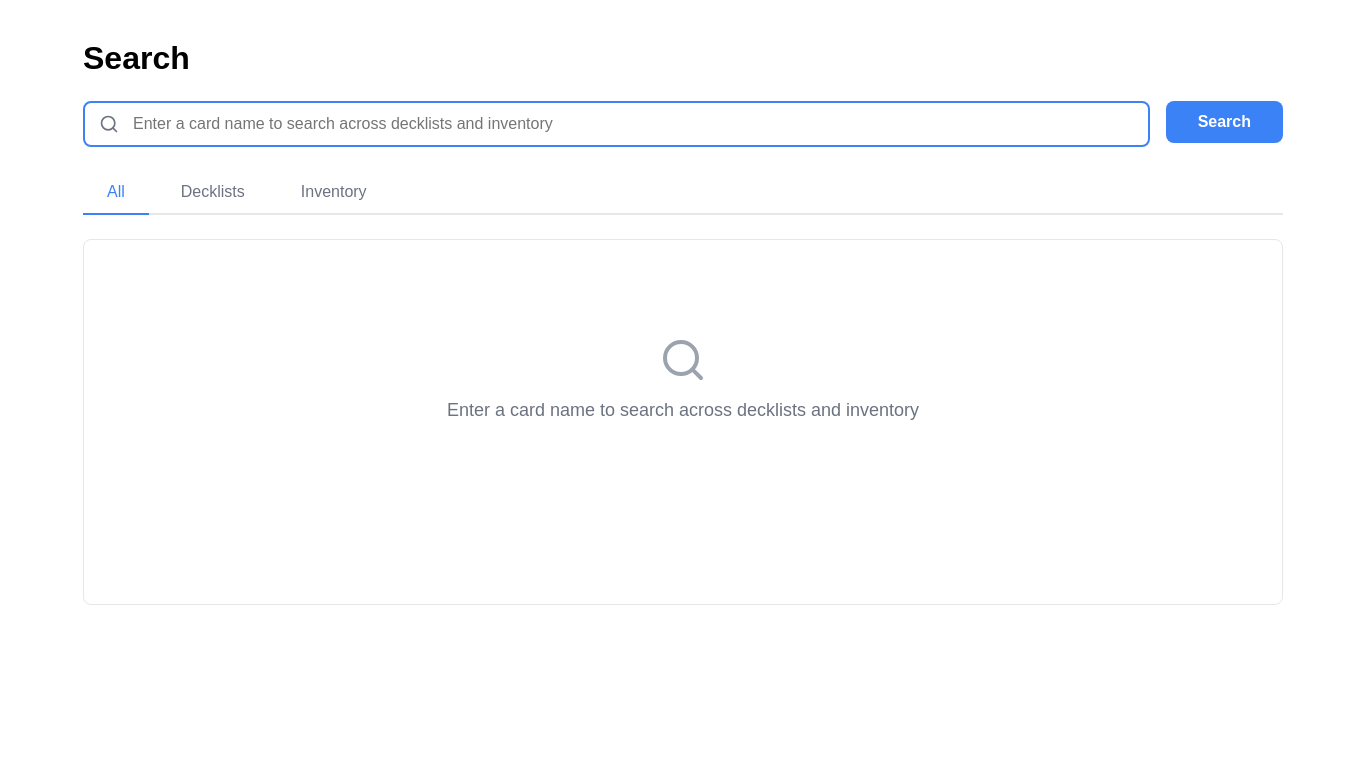
Test case: Search Page - Tab Filtering for Decklists › should hide decklist results when Inventory tab is active
The width and height of the screenshot is (1366, 768).
Type "Sol Ring" into the field with placeholder "Enter a card name to search across decklists and inventory" at (616, 124), box [83,101,1150,147]
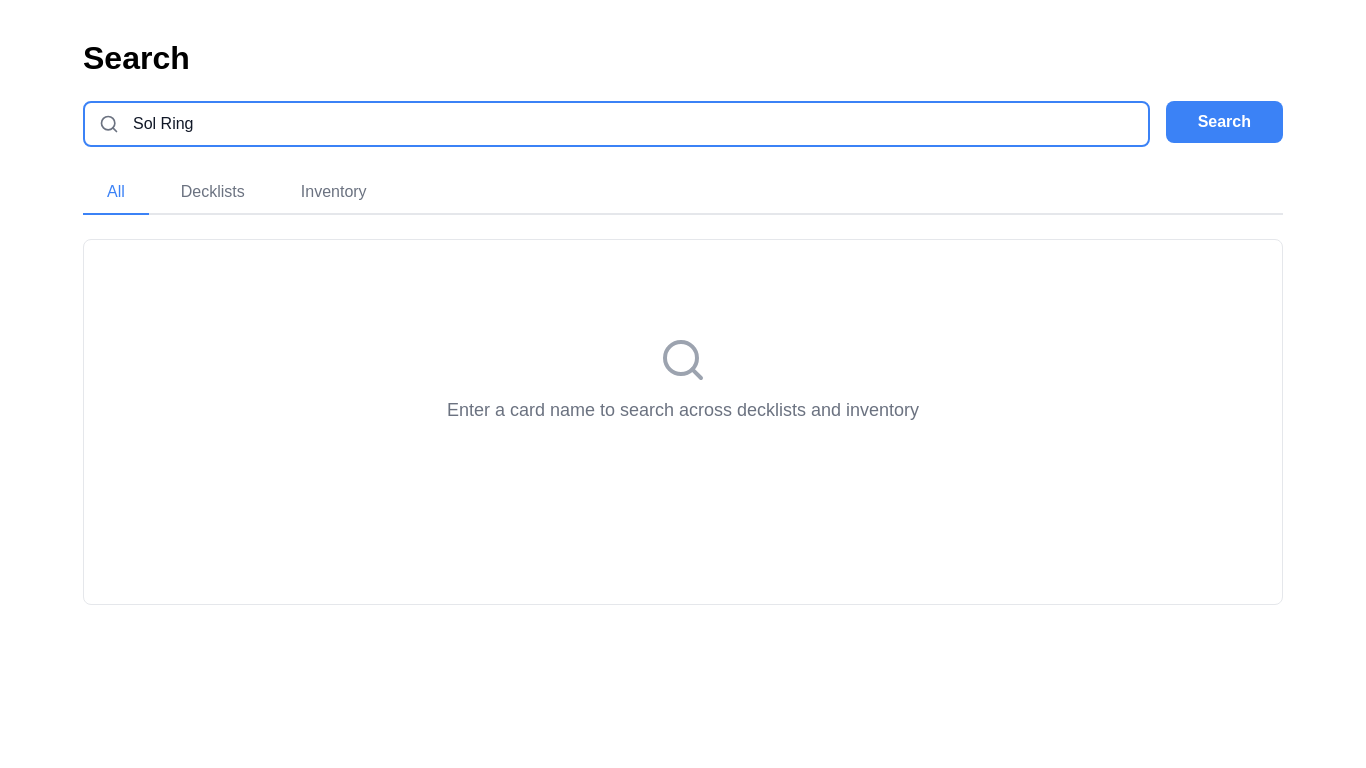
Click the button "Search" at (1224, 122), box [1166,101,1283,143]
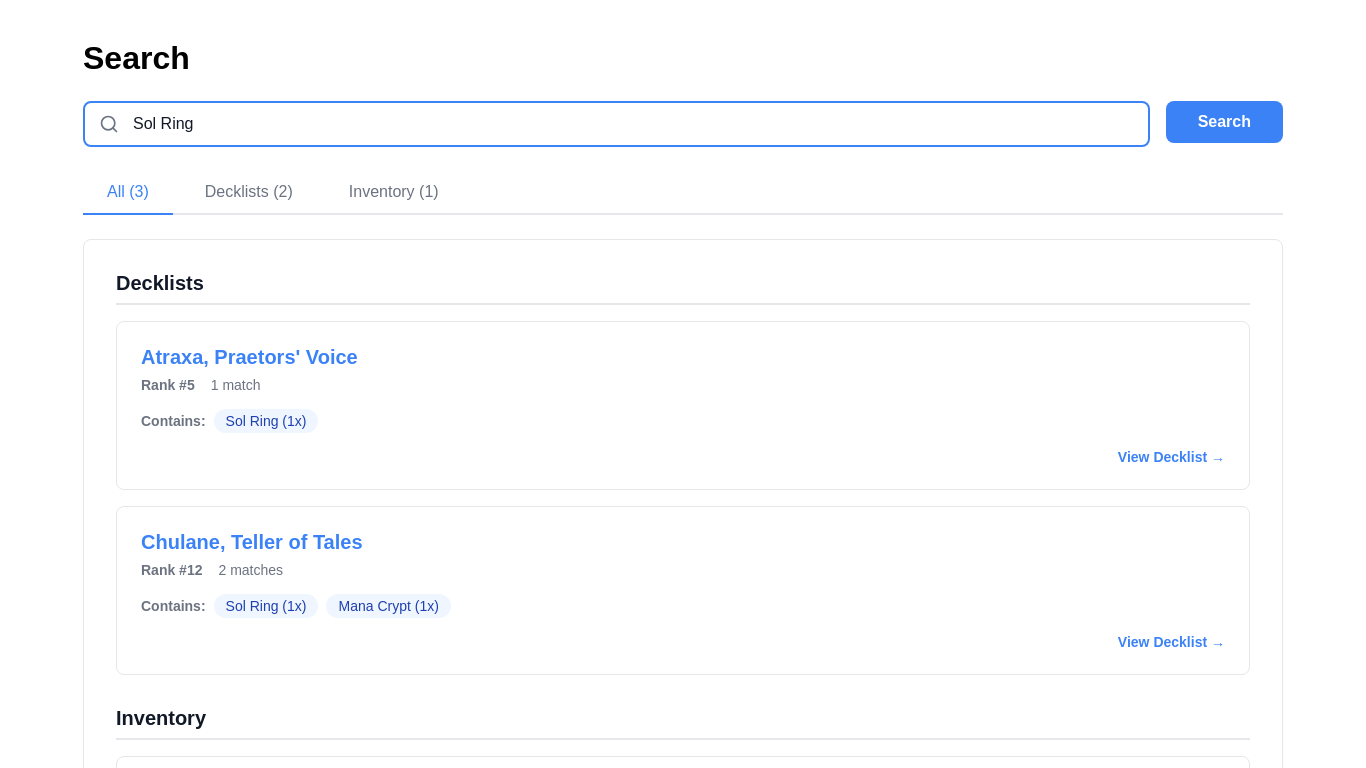
Expected: the link "Atraxa, Praetors' Voice" is shown, [141,346,358,368]
Click the tab "Inventory (1)" at (394, 193), box [325,171,463,215]
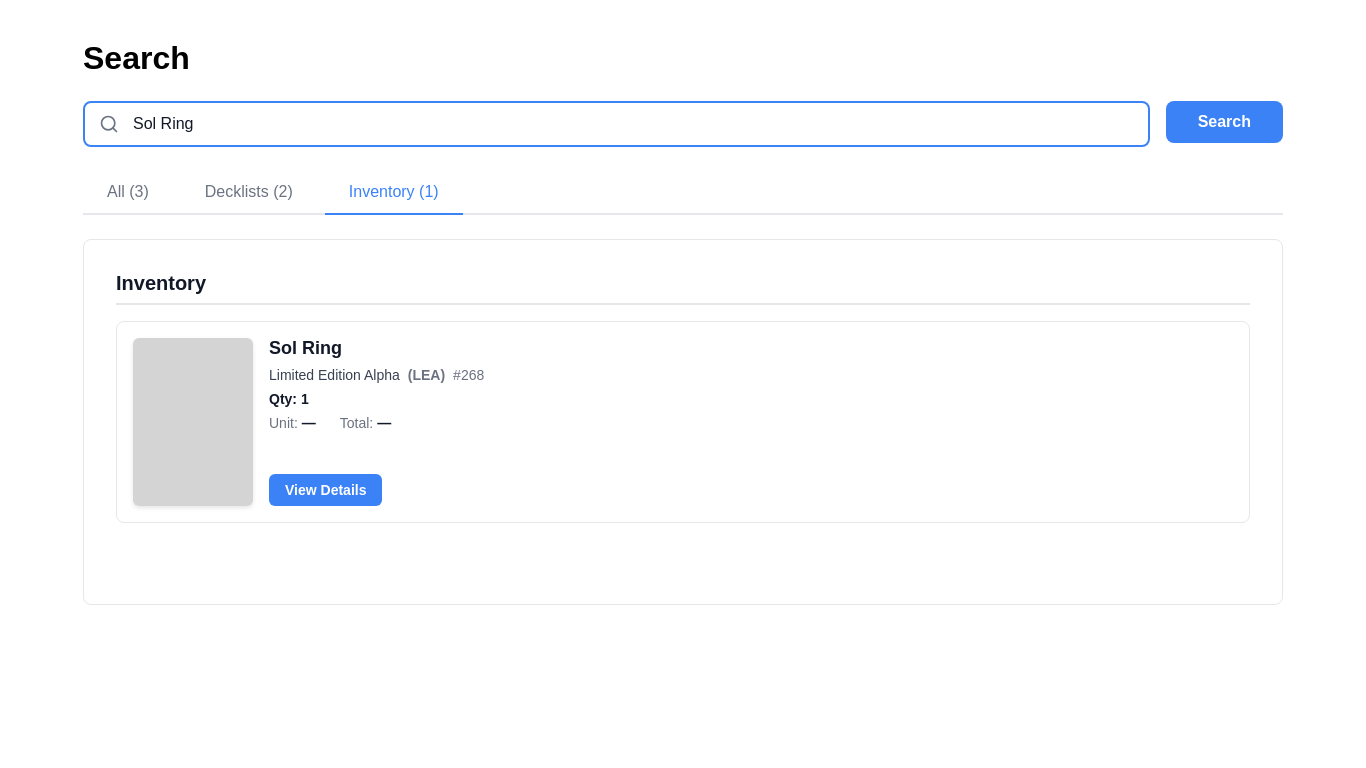
Expected: the link "Atraxa, Praetors' Voice" is gone
Expected: the link "Chulane, Teller of Tales" is gone
